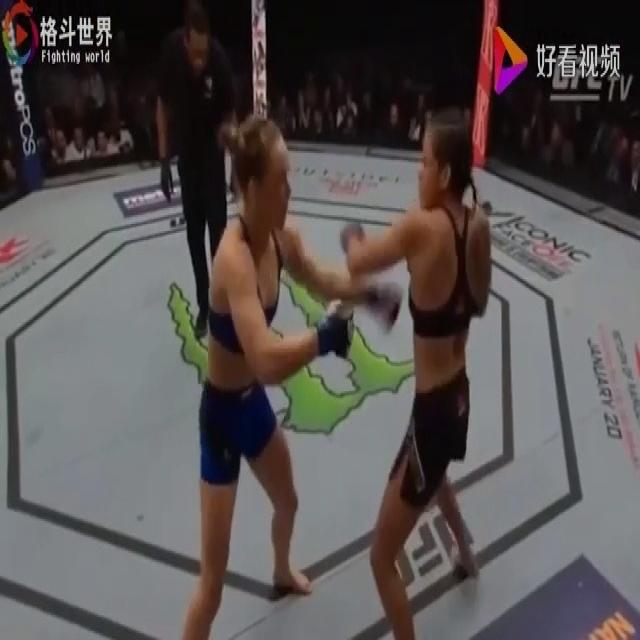fight: (175, 103, 490, 638)
non-fight: (154, 0, 243, 373)
